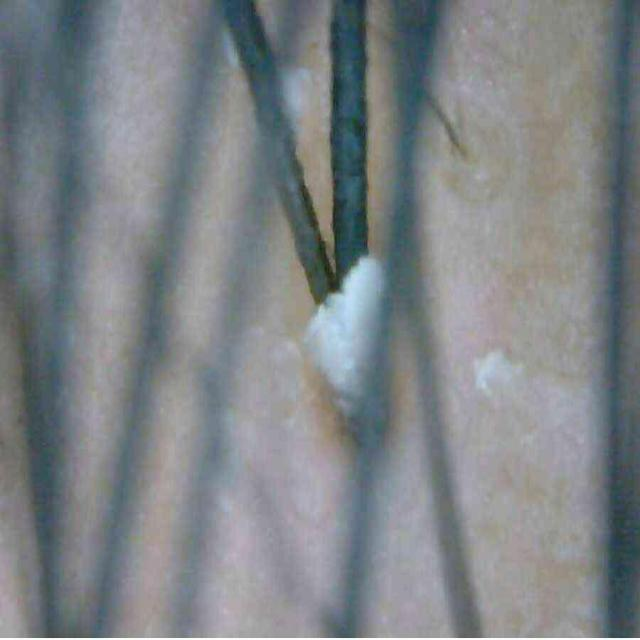d: (304, 252, 392, 438), (474, 350, 522, 398), (281, 68, 311, 125)
